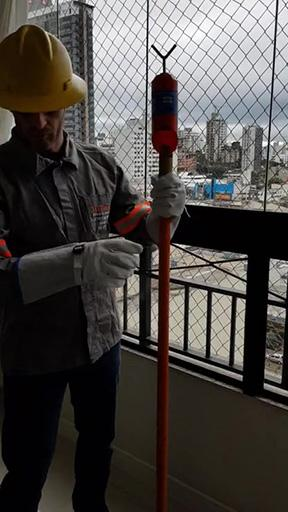Detector_Tensao_Contato: (150, 43, 178, 154)
Vara_Manobra: (155, 152, 174, 512)
